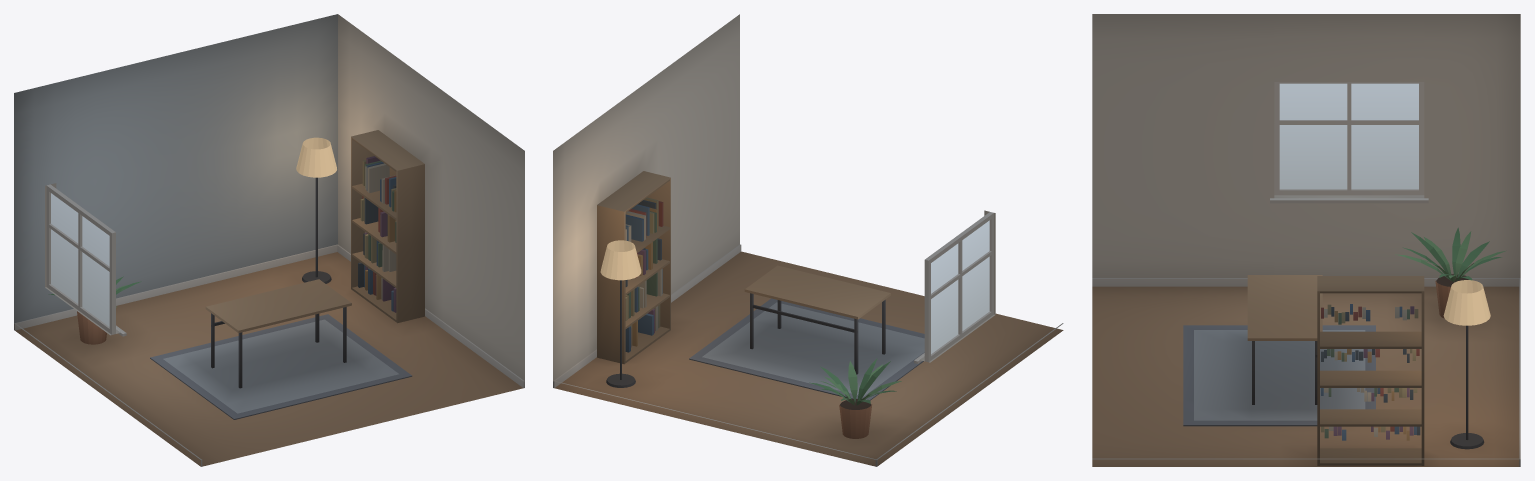
File: room.glb
3 renders of one model, left to right at view 1: azimuth 30°, elevation 25°; view 2: azimuth 150°, elevation 25°; view 3: azimuth 270°, elevation 25°, orthographic. The views are drawn at different scales.
Visible parts, largest first — view 1: WallBack, Floor, WallRight, Rug, Bookshelf, Window, Desk, Skirting, Lamp, Plant; view 2: Floor, WallRight, Rug, Bookshelf, Window, Desk, Plant, Lamp, Skirting; view 3: WallLeft, Floor, Window, Rug, Bookshelf, Desk, Skirting, Lamp, Plant.
Boxes of the visible parts, <box> form: WallBack: <box>14,14,337,323</box>; Floor: <box>15,252,522,466</box>; WallRight: <box>338,14,524,380</box>; Rug: <box>150,314,412,419</box>; Bookshelf: <box>351,130,424,323</box>; Window: <box>45,183,126,336</box>; Desk: <box>205,279,351,388</box>; Skirting: <box>14,244,524,466</box>; Lamp: <box>296,137,336,283</box>; Plant: <box>48,276,141,344</box>; Floor: <box>555,251,1063,466</box>; WallRight: <box>553,14,739,380</box>; Rug: <box>689,298,924,400</box>; Bookshelf: <box>597,171,670,364</box>; Window: <box>914,210,995,363</box>; Desk: <box>744,265,890,374</box>; Plant: <box>809,358,901,438</box>; Lamp: <box>600,240,641,387</box>; Skirting: <box>553,244,1063,466</box>; WallLeft: <box>1092,14,1520,277</box>; Floor: <box>1092,286,1519,466</box>; Window: <box>1270,82,1428,203</box>; Rug: <box>1183,325,1375,426</box>; Bookshelf: <box>1317,276,1424,465</box>; Desk: <box>1247,275,1322,404</box>; Skirting: <box>1092,278,1520,466</box>; Lamp: <box>1443,280,1490,449</box>; Plant: <box>1395,227,1506,318</box>.
Bounding box in the file's own units: 4.14 × 2.8 × 4.
